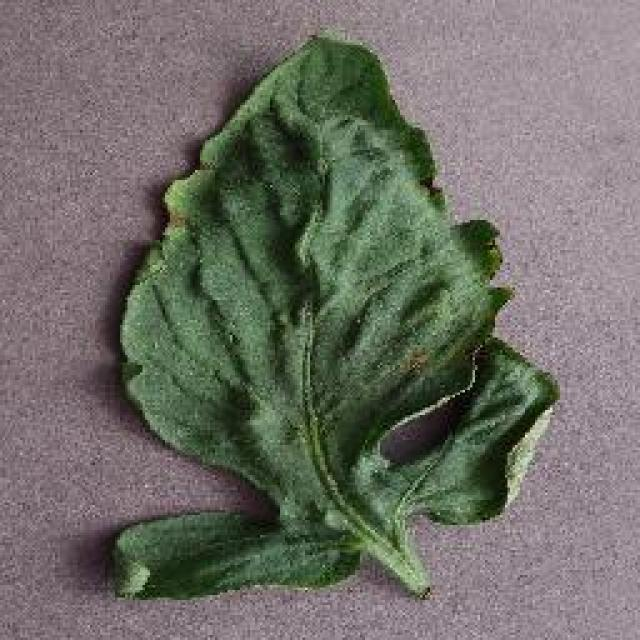Tomato Septoria spot leaf: (102, 34, 558, 598)
